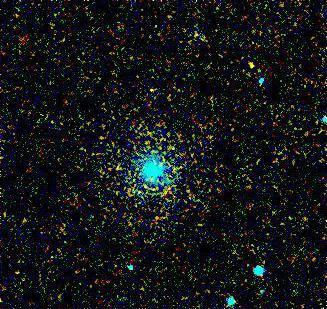star: (237, 50, 267, 80)
